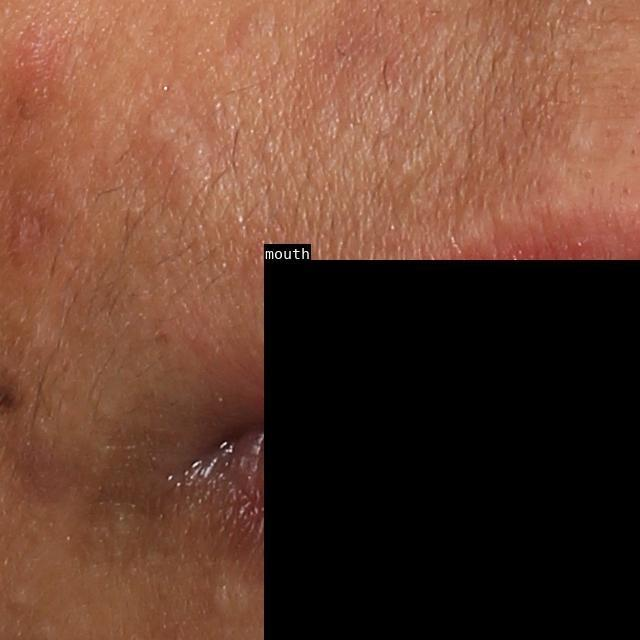comedo: (4, 583, 31, 614)
hypertrophic_scar: (148, 108, 219, 210), (201, 569, 257, 627)
